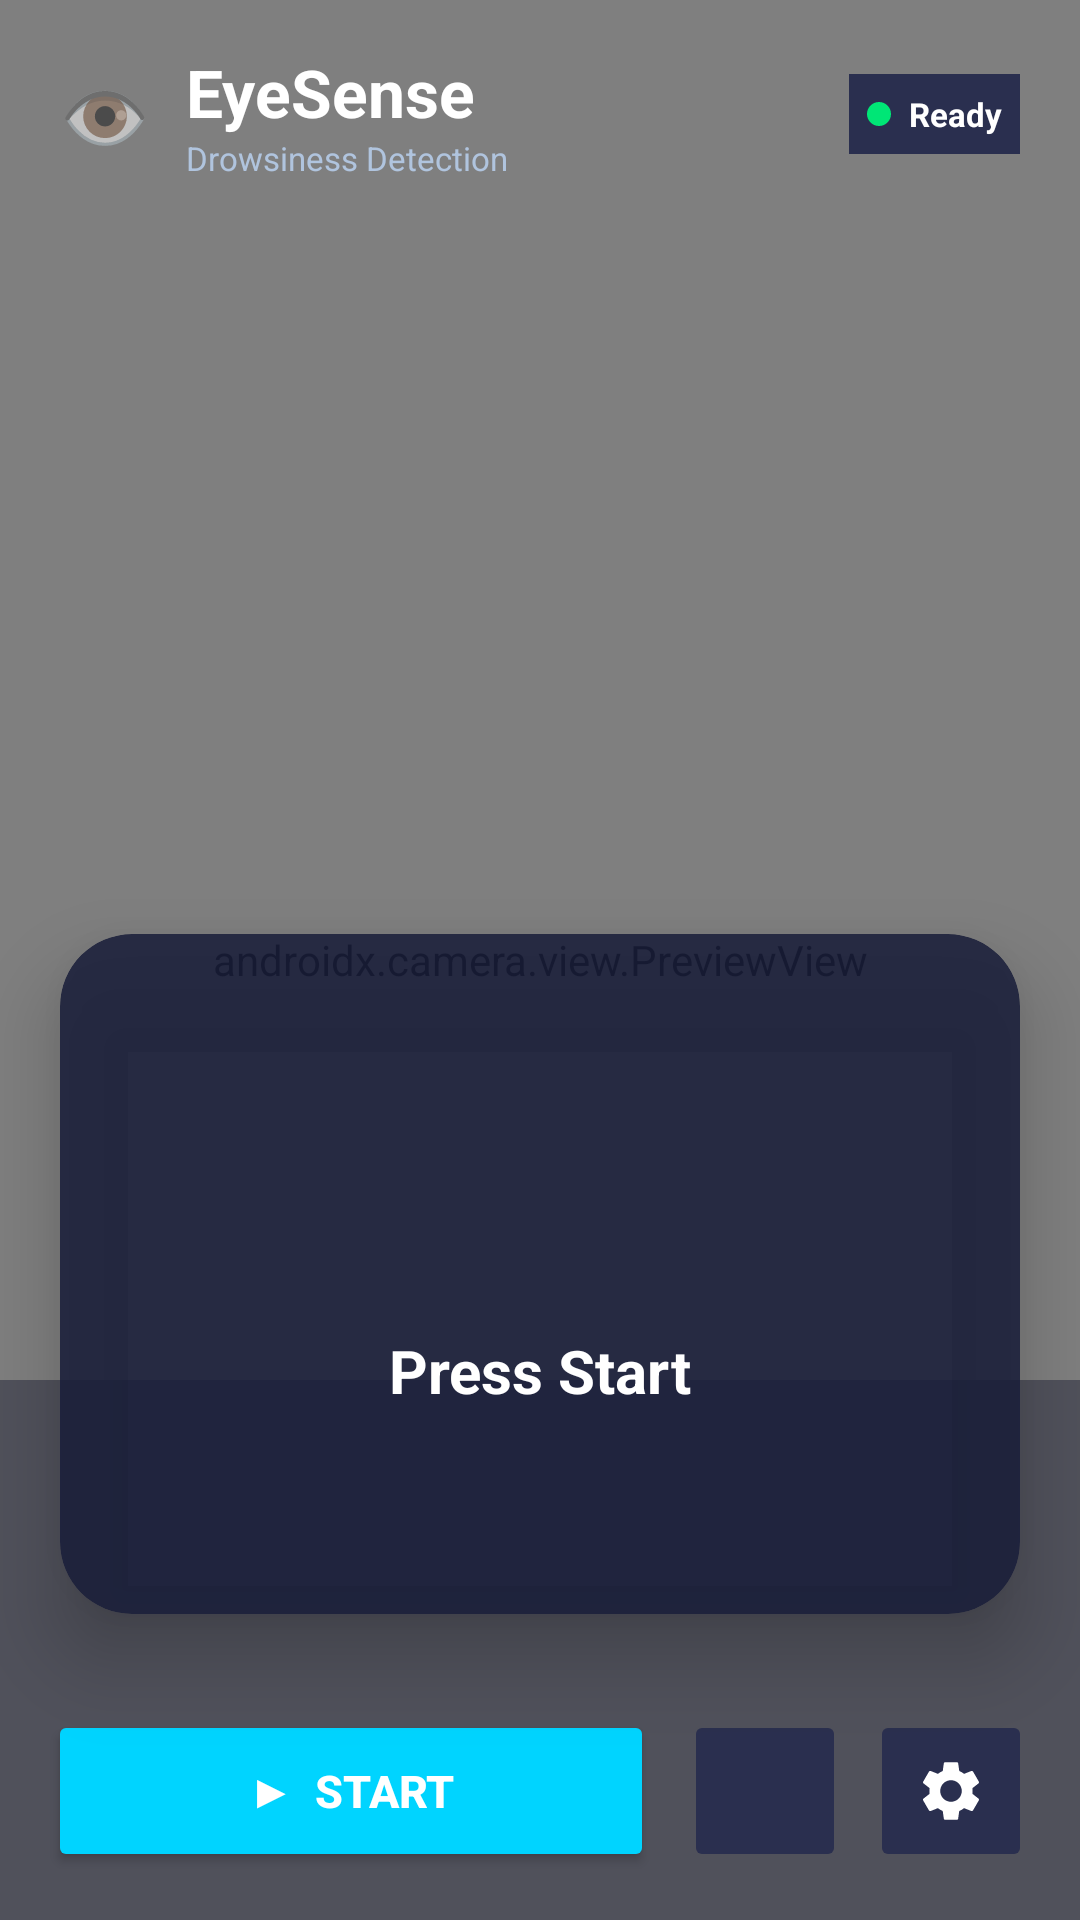

Locate icon controls on the screen. Image size 1080 x 1920, boxes as box(x1, y1, x2, y2).
settings: box(882, 1728, 1020, 1854)
